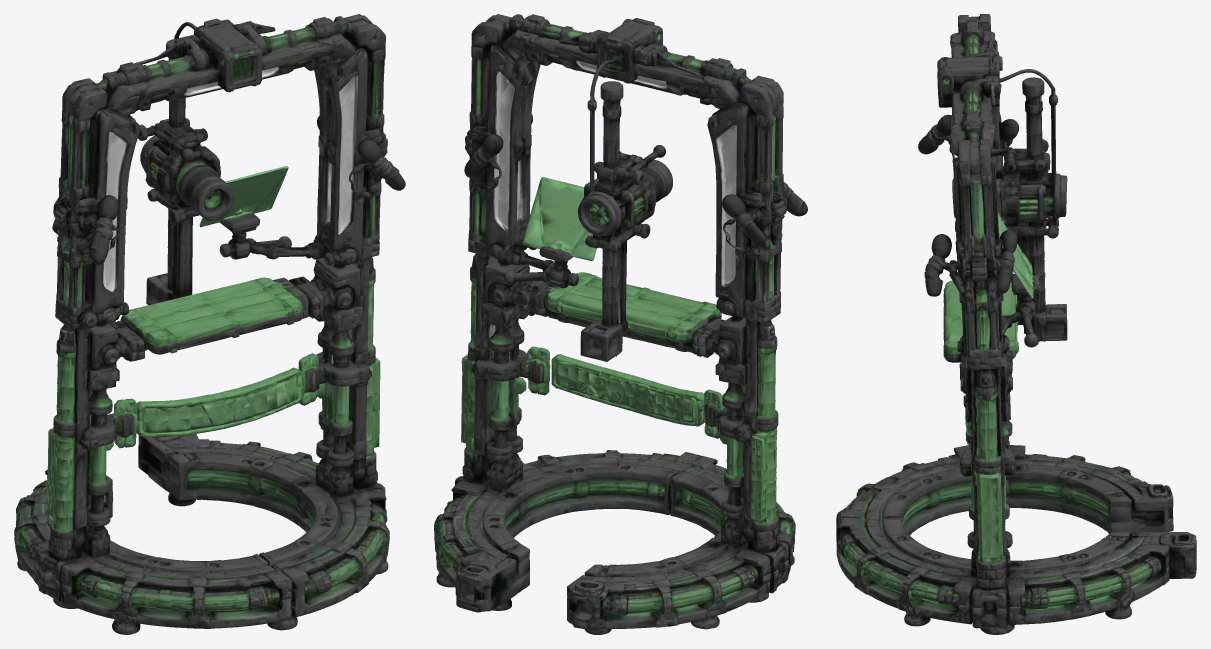
The model's file is green_technical_device_web.glb.
The picture shows the model from 3 angles, left to right: view 1: azimuth 30°, elevation 25°; view 2: azimuth 150°, elevation 25°; view 3: azimuth 270°, elevation 25°; orthographic projection. The views are drawn at different scales.
Visible parts, largest first — view 1: tripo_node_a9099e01-9c2e-4d29-9c87-7ad625888018; view 2: tripo_node_a9099e01-9c2e-4d29-9c87-7ad625888018; view 3: tripo_node_a9099e01-9c2e-4d29-9c87-7ad625888018.
Part boxes in pixels (box(x1,y1,x2,y2)): tripo_node_a9099e01-9c2e-4d29-9c87-7ad625888018: box(14, 14, 405, 634); tripo_node_a9099e01-9c2e-4d29-9c87-7ad625888018: box(434, 14, 807, 634); tripo_node_a9099e01-9c2e-4d29-9c87-7ad625888018: box(836, 14, 1196, 634).
Bounding box in the file's own units: 0.6234 × 0.9781 × 0.6274.
Materials: 1 (1 with a texture image).
